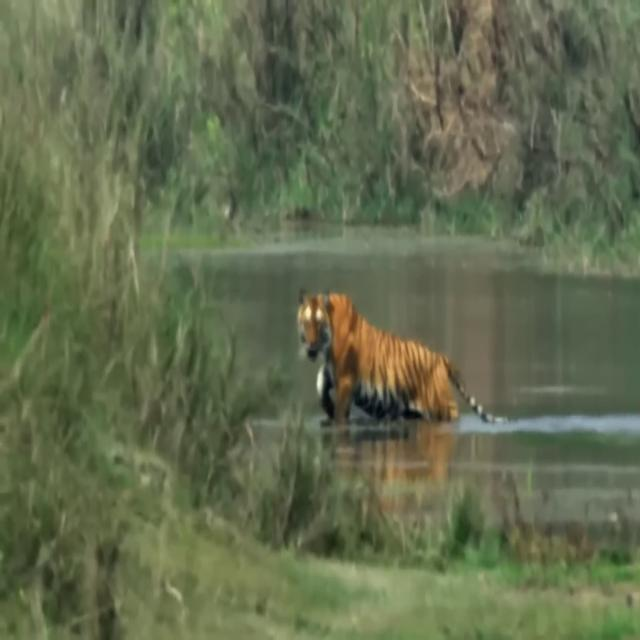tiger: (296, 288, 509, 426)
